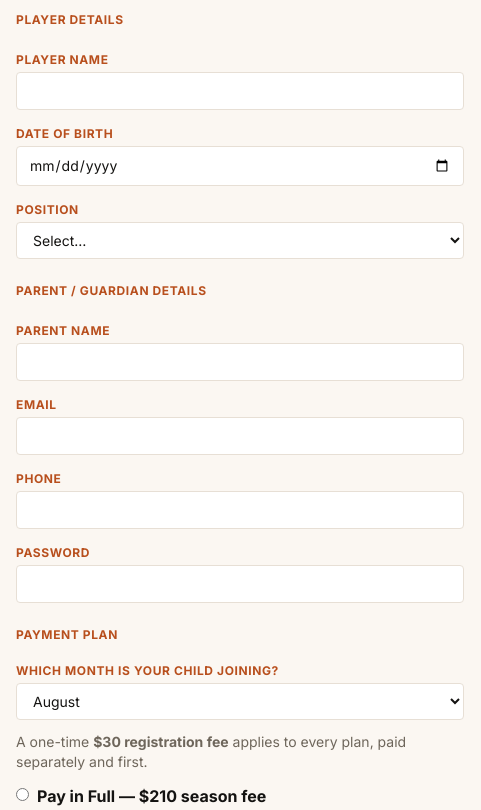
Scenario: reprices the plans when a later join month is selected
Select "October" in the dropdown labelled "Which month is your child joining?" at (240, 702), box [16, 683, 464, 720]
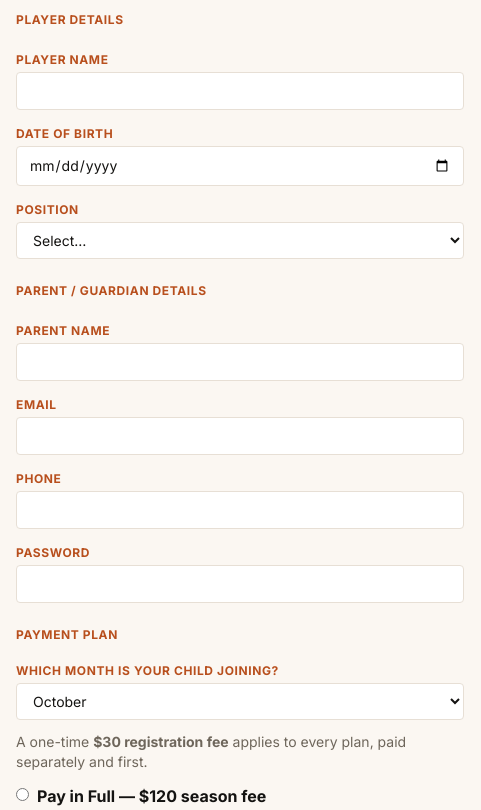
Check: the text "Pay in Full — $120 season fee" is shown, box [37, 786, 266, 806]
Check: the text "$210 season fee" is gone
